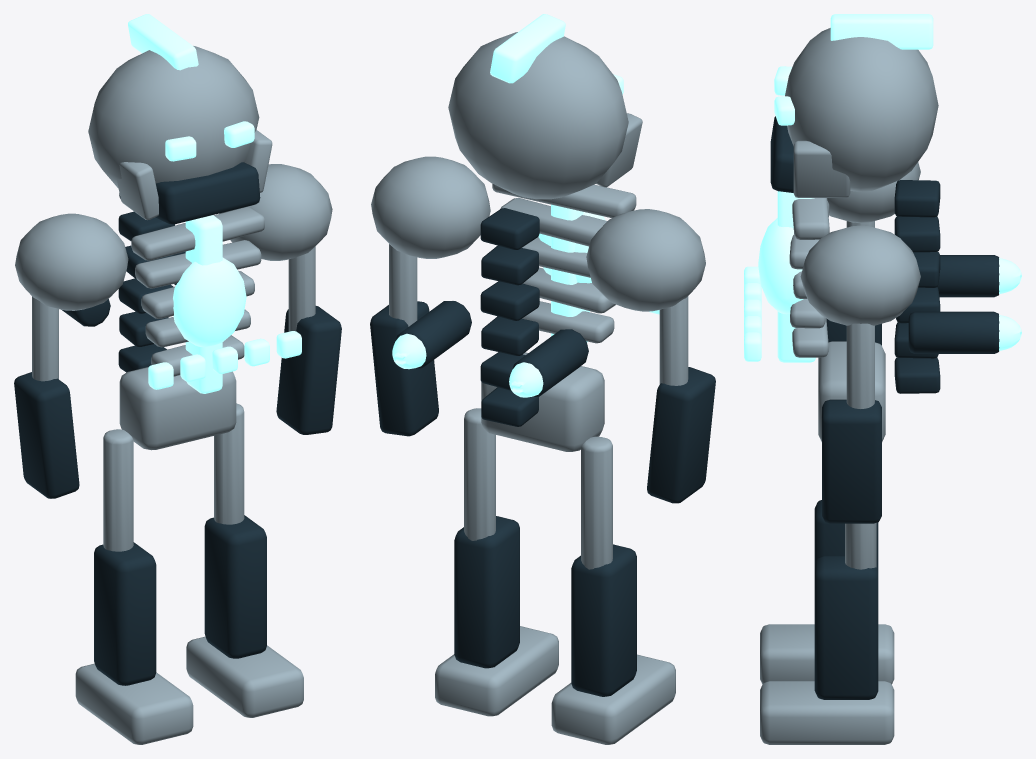
File: Infiltrator_CryoRevenant_Armor.fbx
3 views of the same model, side by side, from view 1: azimuth 30°, elevation 25°; view 2: azimuth 150°, elevation 25°; view 3: azimuth 270°, elevation 25° (orthographic). The views are drawn at different scales.
Visible parts, largest first — view 1: Skull.002, Scapula_L.002, ShinBlade_L.002, ShinBlade_R.002, Pelvis.002, ForearmBlade_L.002, Talon_L.002, Talon_R.002, ForearmBlade_R.002, Scapula_R.002, FrozenHeart.002, Jaw.002 (+25 smaller); view 2: Skull.002, Scapula_L.002, Scapula_R.002, ShinBlade_R.002, ShinBlade_L.002, ForearmBlade_L.002, Talon_L.002, Talon_R.002, Pelvis.002, ForearmBlade_R.002, Femur_L.002, Femur_R.002 (+20 smaller); view 3: Skull.002, Scapula_R.002, ShinBlade_R.002, Talon_R.002, ForearmBlade_R.002, Talon_L.002, SoulJet_1.002, CranialSpine.002, FrozenHeart.002, SoulJet_-1.002, CheekBlade_1.002, Pelvis.002 (+21 smaller).
Part boxes in pixels (x1,y1,x2,y2): Skull.002: (88, 46, 259, 188); Scapula_L.002: (15, 213, 128, 310); ShinBlade_L.002: (94, 542, 156, 685); ShinBlade_R.002: (204, 515, 266, 658); Pelvis.002: (119, 367, 236, 450); ForearmBlade_L.002: (14, 372, 79, 498); Talon_L.002: (75, 663, 193, 744); Talon_R.002: (186, 636, 303, 717); ForearmBlade_R.002: (276, 306, 341, 434); Scapula_R.002: (219, 164, 332, 260); FrozenHeart.002: (173, 257, 246, 347); Jaw.002: (155, 162, 260, 224); Skull.002: (448, 32, 628, 199); Scapula_L.002: (586, 209, 705, 311); Scapula_R.002: (371, 156, 490, 258); ShinBlade_R.002: (454, 516, 519, 668); ShinBlade_L.002: (571, 544, 636, 696); ForearmBlade_L.002: (647, 367, 715, 503); Talon_L.002: (551, 654, 675, 744); Talon_R.002: (435, 626, 558, 716); Pelvis.002: (481, 352, 604, 451); ForearmBlade_R.002: (370, 301, 438, 436); Femur_L.002: (581, 436, 612, 569); Femur_R.002: (464, 408, 495, 540); Skull.002: (785, 28, 938, 191); Scapula_R.002: (800, 225, 920, 325); ShinBlade_R.002: (814, 556, 878, 699); Talon_R.002: (760, 681, 894, 744); ForearmBlade_R.002: (822, 399, 881, 523); Talon_L.002: (760, 624, 894, 684); SoulJet_1.002: (908, 311, 999, 353); CranialSpine.002: (830, 14, 933, 49); FrozenHeart.002: (758, 218, 803, 314); SoulJet_-1.002: (937, 255, 999, 297); CheekBlade_1.002: (793, 140, 850, 197); Pelvis.002: (818, 341, 885, 441).
Size of the model in its own units: 209 by 429 by 157.
